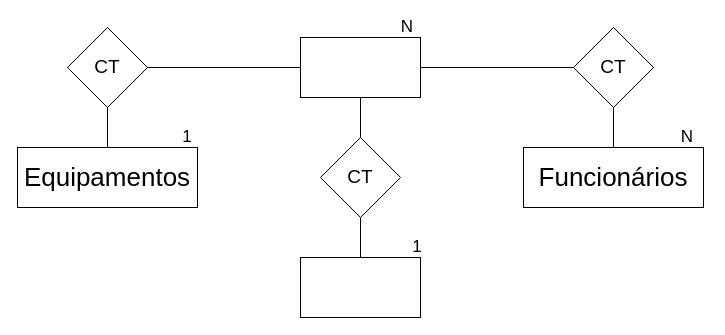
This 725x335 diagram has some shape labels left out. The centre of each missing label's shape, as x and y in pixels:
"Clientes" goes at point (360, 287).
"Reparos" goes at point (360, 67).
